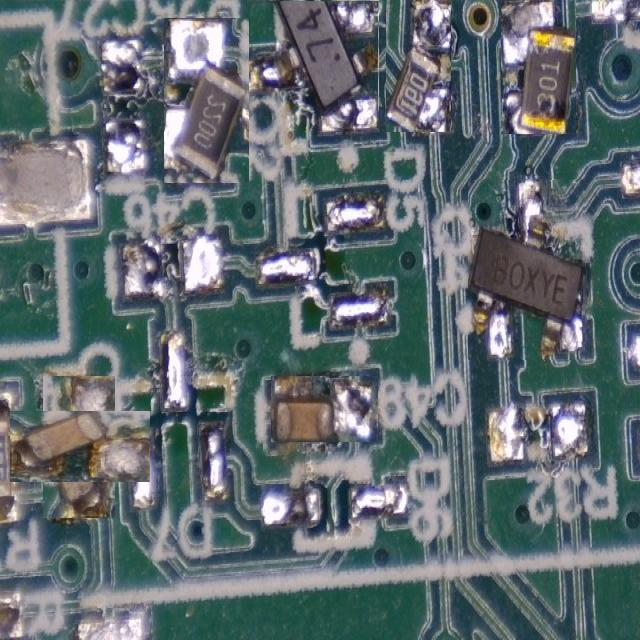Incorrect_installation: (469, 180, 584, 360), (247, 0, 379, 131), (164, 19, 248, 182), (501, 0, 576, 134), (9, 412, 150, 482), (386, 1, 451, 132), (271, 376, 378, 442)
